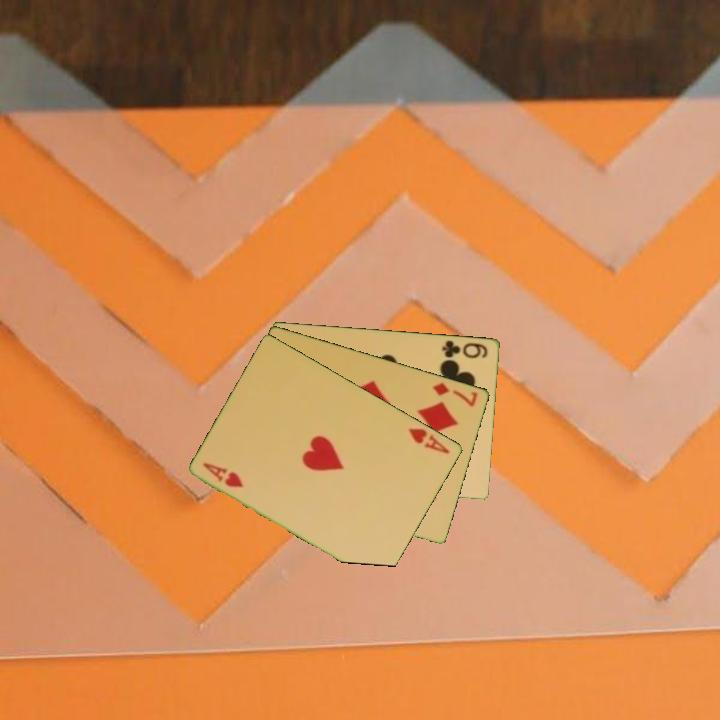6c: (439, 336, 491, 361)
7d: (429, 379, 481, 409)
Ah: (405, 424, 453, 457), (200, 459, 247, 490)
